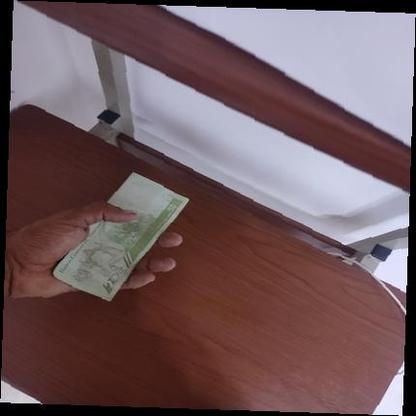fifty-back-vef: (52, 172, 190, 302)
